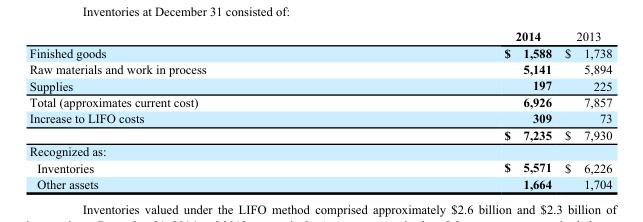table: (28, 28, 611, 190)
table column: (28, 28, 354, 190), (354, 28, 557, 190), (557, 28, 611, 190)
table column header: (28, 28, 611, 44)
table projected row header: (28, 142, 611, 159)
table row: (28, 76, 611, 93), (28, 109, 611, 126), (28, 142, 611, 159), (28, 28, 611, 44), (28, 44, 611, 60), (28, 60, 611, 76), (28, 93, 611, 109), (28, 126, 611, 142), (28, 159, 611, 175), (28, 175, 611, 190)
